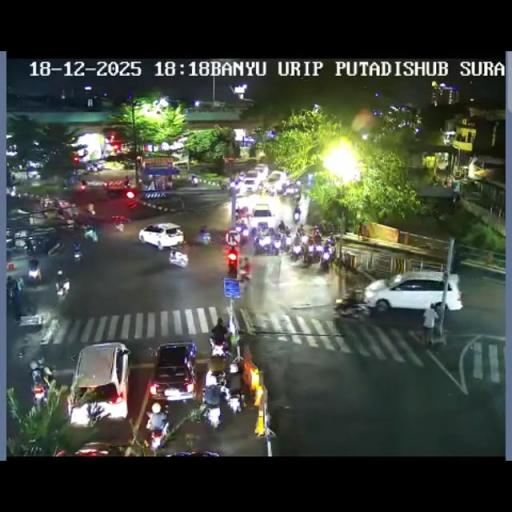Car: (68, 342, 130, 424), (364, 270, 462, 312), (148, 342, 198, 403), (138, 222, 184, 248), (68, 441, 126, 455), (250, 202, 275, 230), (236, 170, 262, 194), (105, 178, 135, 196), (265, 170, 288, 192), (253, 164, 269, 178)
Motorcycle: (332, 290, 370, 320), (29, 359, 53, 405), (145, 404, 169, 450), (6, 277, 24, 321), (203, 366, 229, 396), (208, 334, 230, 360), (253, 228, 274, 254), (226, 386, 243, 416), (306, 232, 323, 260), (203, 404, 222, 428), (54, 276, 70, 302), (168, 249, 188, 268), (138, 343, 158, 360), (321, 244, 336, 266), (236, 264, 251, 284), (27, 266, 42, 285), (196, 228, 211, 246), (290, 241, 304, 260), (64, 203, 78, 222), (83, 226, 98, 242), (24, 237, 38, 253), (46, 241, 62, 255), (278, 230, 288, 250), (237, 230, 248, 248), (72, 242, 83, 260), (282, 184, 296, 198), (40, 195, 54, 209), (236, 214, 249, 229), (318, 219, 331, 234), (6, 184, 17, 198), (65, 218, 76, 231), (300, 187, 310, 201), (228, 360, 238, 374), (86, 202, 96, 216), (114, 219, 124, 232), (250, 225, 259, 239), (452, 190, 461, 204), (293, 208, 301, 222), (258, 184, 268, 195), (56, 208, 66, 219), (6, 246, 12, 264), (297, 224, 305, 237), (95, 160, 105, 170), (278, 220, 286, 232), (220, 179, 227, 192), (294, 195, 300, 210), (294, 179, 302, 190), (190, 176, 198, 186), (86, 162, 94, 172), (40, 208, 47, 219), (228, 179, 235, 190), (301, 234, 308, 244), (80, 182, 86, 191)
